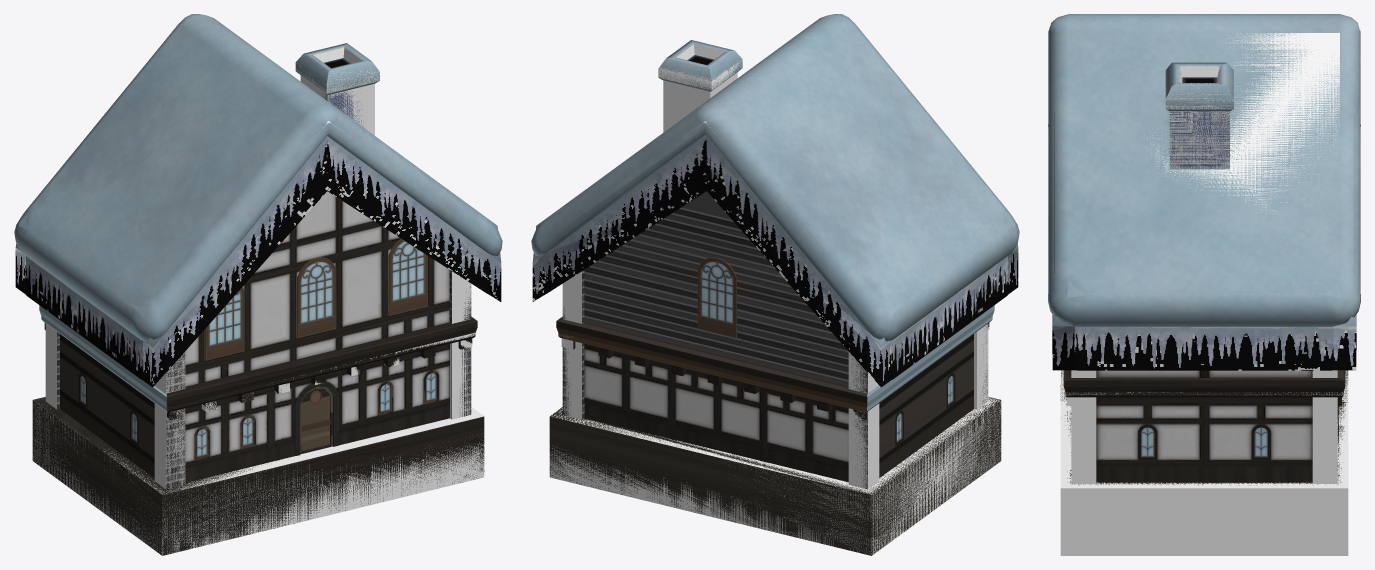
Rendered from objects_un_t08house01.gltf.
3 renders of one model, left to right at view 1: azimuth 30°, elevation 25°; view 2: azimuth 150°, elevation 25°; view 3: azimuth 270°, elevation 25°, orthographic. The views are drawn at different scales.
Visible parts, largest first — view 1: um_objects_un_t08house01_model_lod0Shape:objects_un_t08house (×5), um_objects_un_t08house01_model_lod2Shape:objects_un_t08house (×4), um_objects_un_t08house01_model_lod1Shape:objects_un_t08house (×3), nomerge_behind01_shape:objects_un_behind; view 2: um_objects_un_t08house01_model_lod0Shape:objects_un_t08house (×5), um_objects_un_t08house01_model_lod1Shape:objects_un_t08house (×3), um_objects_un_t08house01_model_lod2Shape:objects_un_t08house (×3), nomerge_behind01_shape:objects_un_behind; view 3: um_objects_un_t08house01_model_lod0Shape:objects_un_t08house (×4), um_objects_un_t08house01_model_lod2Shape:objects_un_t08house (×4), um_objects_un_t08house01_model_lod1Shape:objects_un_t08house, nomerge_behind01_shape:objects_un_behind.
Boxes of the visible parts, x1,y1,x2,y2 form: um_objects_un_t08house01_model_lod0Shape:objects_un_t08house (×5): [14, 14, 502, 555]; um_objects_un_t08house01_model_lod2Shape:objects_un_t08house (×4): [15, 96, 501, 553]; um_objects_un_t08house01_model_lod1Shape:objects_un_t08house (×3): [30, 148, 477, 493]; nomerge_behind01_shape:objects_un_behind: [81, 241, 434, 455]; um_objects_un_t08house01_model_lod0Shape:objects_un_t08house (×5): [531, 14, 1019, 555]; um_objects_un_t08house01_model_lod1Shape:objects_un_t08house (×3): [550, 148, 1006, 467]; um_objects_un_t08house01_model_lod2Shape:objects_un_t08house (×3): [532, 136, 1018, 494]; nomerge_behind01_shape:objects_un_behind: [702, 262, 952, 440]; um_objects_un_t08house01_model_lod0Shape:objects_un_t08house (×4): [1048, 14, 1360, 555]; um_objects_un_t08house01_model_lod2Shape:objects_un_t08house (×4): [1052, 111, 1356, 482]; um_objects_un_t08house01_model_lod1Shape:objects_un_t08house: [1054, 112, 1354, 459]; nomerge_behind01_shape:objects_un_behind: [1142, 428, 1266, 455].
Size of what is drawn, in the model's own units: 13.15 by 14.07 by 8.81.
Materials: 7 (4 with a texture image).
